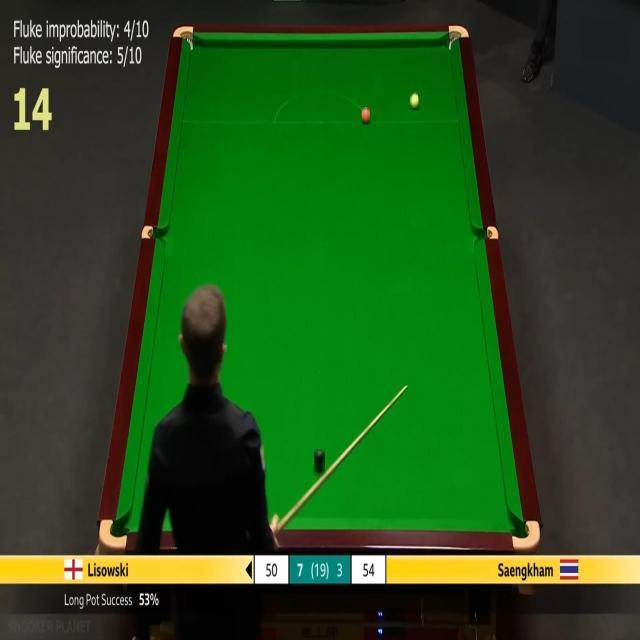Ball: (314, 450, 325, 470), (362, 107, 370, 123), (411, 92, 418, 109)
